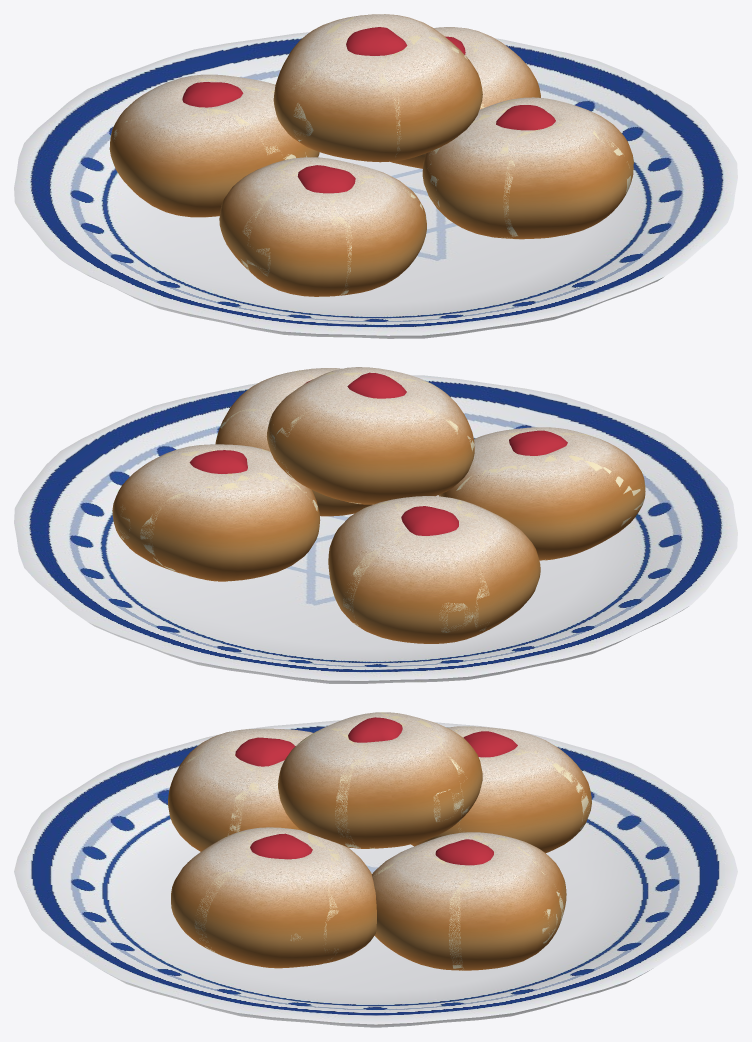
The model's file is sufganiyot.glb.
3 views of the same model, one above another, from view 1: azimuth 30°, elevation 25°; view 2: azimuth 150°, elevation 25°; view 3: azimuth 270°, elevation 25° (orthographic).
Visible parts, largest first — view 1: PorcelainPlatter, Suf_5_State0, Suf_4_State0, Suf_3_State0, Suf_2_State0, Suf_1_State0, Suf_4_State1; view 2: PorcelainPlatter, Suf_2_State0, Suf_5_State0, Suf_1_State0, Suf_3_State0, Suf_4_State0, Suf_1_State3, Suf_2_State3; view 3: PorcelainPlatter, Suf_4_State0, Suf_1_State0, Suf_5_State0, Suf_2_State0, Suf_3_State0, Suf_1_State1, Suf_5_State1.
Boxes of the visible parts, x1,y1,x2,y2 form: PorcelainPlatter: [14, 32, 737, 338]; Suf_5_State0: [273, 14, 482, 162]; Suf_4_State0: [422, 97, 633, 239]; Suf_3_State0: [219, 157, 426, 296]; Suf_2_State0: [109, 74, 319, 217]; Suf_1_State0: [390, 27, 540, 168]; Suf_4_State1: [497, 120, 630, 239]; PorcelainPlatter: [14, 375, 737, 683]; Suf_2_State0: [328, 496, 540, 643]; Suf_5_State0: [267, 367, 474, 504]; Suf_1_State0: [112, 444, 320, 581]; Suf_3_State0: [438, 427, 645, 560]; Suf_4_State0: [215, 368, 372, 516]; Suf_1_State3: [120, 475, 293, 581]; Suf_2_State3: [439, 500, 492, 632]; PorcelainPlatter: [14, 720, 737, 1027]; Suf_4_State0: [171, 827, 376, 968]; Suf_1_State0: [372, 832, 566, 970]; Suf_5_State0: [278, 712, 482, 848]; Suf_2_State0: [411, 726, 591, 852]; Suf_3_State0: [168, 728, 312, 851]; Suf_1_State1: [372, 851, 469, 970]; Suf_5_State1: [296, 728, 374, 848].
Size of the model in its own units: 0.2751 by 0.0834 by 0.2751.
Materials: 4 (2 with a texture image).
